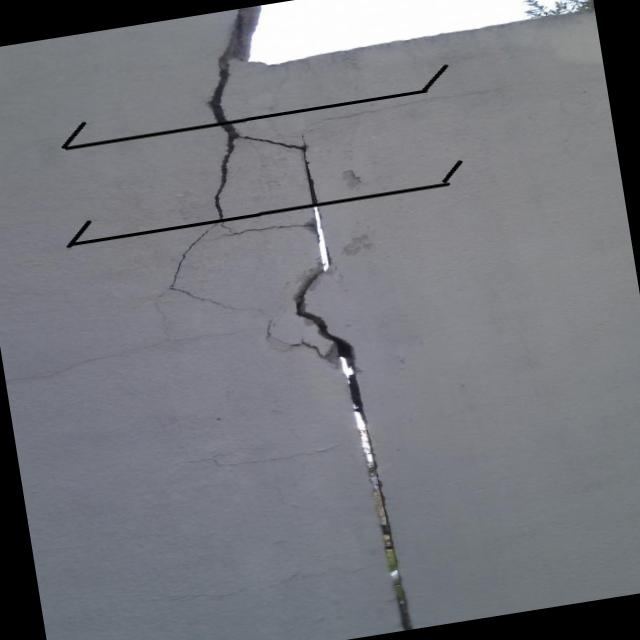crack: (292, 201, 417, 628), (202, 6, 264, 124), (207, 130, 237, 217), (294, 145, 322, 199)
